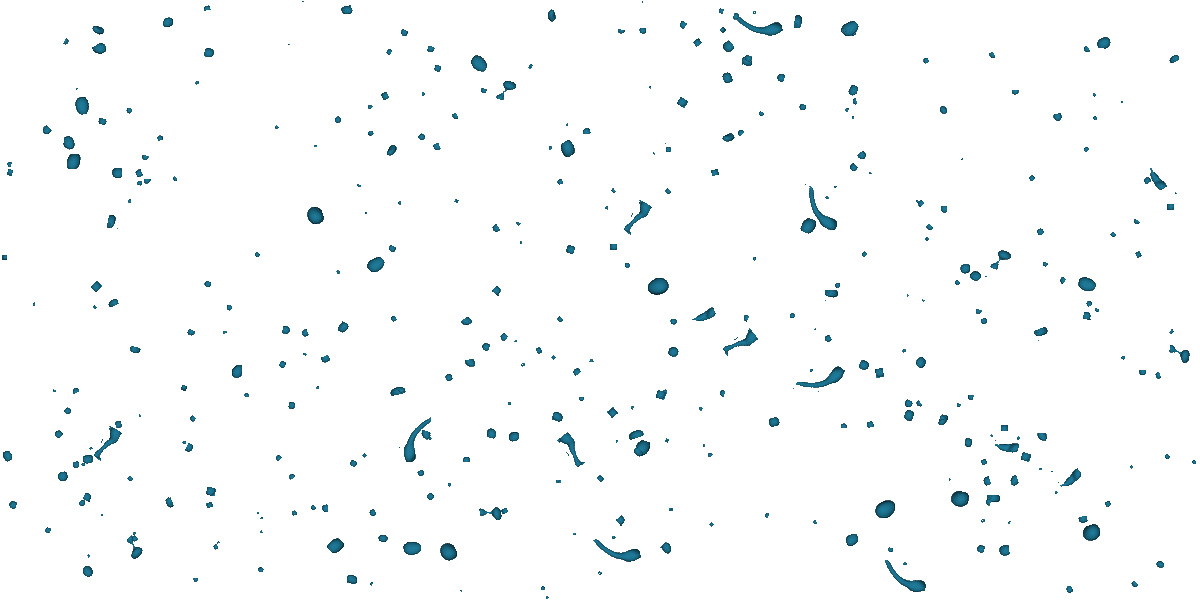Detached ligament: (792, 352, 847, 408), (791, 183, 848, 233), (729, 4, 784, 46), (588, 530, 642, 570), (877, 559, 928, 593), (401, 412, 434, 463), (721, 327, 759, 361), (556, 431, 590, 469), (622, 199, 653, 238), (92, 425, 123, 464), (120, 533, 148, 561), (987, 246, 1013, 274), (493, 77, 518, 104), (1057, 467, 1084, 491), (1146, 165, 1168, 192), (478, 502, 503, 524), (1167, 342, 1192, 364), (690, 306, 717, 325), (993, 439, 1020, 454)
drop: (434, 537, 460, 565), (645, 274, 673, 300), (838, 17, 864, 43), (364, 253, 390, 279), (465, 52, 491, 78), (302, 201, 326, 228), (1077, 522, 1104, 546), (69, 94, 92, 118), (872, 498, 897, 520), (946, 489, 971, 510), (401, 539, 424, 561), (325, 535, 347, 557), (557, 138, 578, 160), (1076, 276, 1097, 296), (799, 216, 819, 236), (633, 438, 653, 458), (719, 39, 738, 59), (856, 356, 874, 375), (91, 40, 110, 58), (912, 353, 930, 371), (966, 267, 984, 285), (719, 129, 737, 147), (1033, 325, 1052, 342), (543, 6, 560, 24), (626, 426, 646, 441), (659, 539, 676, 556), (202, 44, 218, 62), (388, 383, 408, 397), (66, 153, 82, 170), (666, 344, 684, 359), (106, 212, 121, 230), (339, 3, 355, 19), (336, 320, 352, 336), (53, 470, 70, 485), (483, 425, 500, 440), (996, 544, 1011, 561), (1153, 557, 1169, 572), (38, 124, 53, 140), (856, 149, 871, 165), (844, 533, 860, 548), (62, 135, 77, 151), (458, 315, 474, 330), (0, 449, 15, 464), (109, 167, 123, 183), (986, 494, 1003, 507), (937, 103, 951, 118), (90, 23, 105, 37), (902, 408, 916, 423), (846, 83, 860, 98), (956, 263, 972, 276), (230, 364, 243, 380), (824, 289, 840, 302), (551, 409, 565, 423), (1007, 472, 1020, 487), (417, 428, 432, 441), (375, 532, 390, 545), (794, 13, 806, 29), (507, 430, 520, 444), (162, 15, 175, 29), (281, 324, 295, 337), (1052, 112, 1065, 126), (367, 507, 380, 521), (1097, 36, 1111, 49), (385, 144, 398, 158), (721, 71, 734, 85), (331, 113, 344, 126), (415, 131, 428, 144), (61, 405, 74, 418), (491, 284, 504, 297), (615, 514, 628, 527), (488, 223, 501, 236), (569, 364, 582, 377), (632, 446, 645, 459), (346, 572, 359, 585), (741, 54, 754, 67), (77, 497, 90, 510), (52, 427, 65, 440), (90, 280, 103, 293), (676, 96, 689, 109), (606, 406, 619, 419), (202, 279, 216, 291), (1139, 175, 1153, 187), (797, 102, 811, 114), (1167, 53, 1181, 65), (106, 297, 120, 309), (767, 416, 781, 428), (81, 565, 94, 577), (442, 371, 454, 384), (184, 442, 196, 455), (319, 354, 332, 366), (937, 414, 949, 427), (81, 453, 94, 465), (823, 333, 834, 347), (164, 496, 175, 510), (462, 358, 476, 369), (963, 436, 974, 450), (82, 491, 94, 503), (980, 475, 992, 487), (979, 316, 991, 328), (416, 468, 428, 480), (1063, 584, 1075, 596), (902, 398, 914, 410), (655, 389, 667, 401), (1020, 451, 1032, 463), (847, 28, 858, 41), (1034, 432, 1048, 442), (287, 400, 298, 412), (1077, 515, 1089, 526), (398, 28, 410, 39), (386, 244, 398, 255), (205, 486, 217, 497), (874, 367, 885, 379), (129, 345, 142, 355), (914, 198, 925, 209), (1056, 275, 1067, 286), (1082, 310, 1093, 321), (924, 223, 935, 234), (1129, 580, 1140, 591), (186, 414, 197, 425), (677, 20, 688, 31), (498, 332, 509, 343), (734, 127, 745, 138), (1081, 45, 1092, 56), (69, 385, 80, 396), (848, 162, 859, 173), (732, 11, 743, 22), (272, 452, 283, 463), (425, 491, 436, 502), (277, 359, 288, 370), (348, 458, 359, 469), (299, 328, 310, 339), (1026, 172, 1037, 183), (975, 543, 986, 554), (7, 499, 18, 510), (480, 341, 491, 352), (692, 37, 703, 48), (565, 244, 576, 255), (987, 51, 997, 62), (740, 313, 750, 324), (450, 112, 460, 123), (581, 124, 591, 135), (318, 504, 329, 514), (553, 177, 564, 187), (919, 56, 930, 66), (432, 142, 442, 153), (134, 168, 144, 179), (186, 328, 197, 338), (936, 414, 947, 424), (913, 398, 923, 409), (1130, 217, 1141, 227), (130, 534, 140, 545), (669, 318, 679, 328), (383, 47, 393, 57), (286, 471, 296, 481), (978, 457, 988, 467), (1102, 499, 1112, 509), (388, 314, 398, 324), (1084, 298, 1094, 308), (1035, 227, 1045, 237), (704, 450, 714, 460), (364, 102, 374, 112), (380, 91, 390, 101), (1153, 371, 1162, 382), (983, 497, 992, 508), (62, 37, 71, 48), (201, 3, 211, 12), (224, 304, 233, 314), (124, 107, 133, 117), (717, 389, 726, 399), (4, 159, 13, 169), (638, 27, 648, 36), (43, 526, 52, 536), (155, 133, 165, 142), (433, 64, 443, 73), (1162, 452, 1171, 461), (252, 250, 261, 259), (833, 281, 842, 290), (256, 565, 265, 574), (366, 129, 375, 138), (663, 187, 672, 196), (555, 315, 564, 324), (776, 73, 785, 82), (952, 278, 961, 287), (308, 503, 317, 512), (1040, 260, 1049, 269), (596, 474, 605, 483), (1134, 250, 1143, 259), (143, 178, 153, 186), (461, 455, 471, 463), (1138, 369, 1148, 377), (940, 205, 948, 215), (1011, 89, 1021, 97), (850, 96, 858, 106), (762, 511, 770, 521), (664, 146, 672, 155), (966, 394, 975, 402), (756, 110, 765, 118), (211, 542, 219, 551), (1000, 424, 1009, 432), (1166, 203, 1175, 211), (609, 243, 618, 251), (535, 346, 543, 355), (205, 501, 214, 509), (500, 507, 509, 515), (6, 168, 14, 177), (886, 546, 894, 554), (842, 105, 850, 113), (596, 569, 604, 577), (839, 421, 847, 429), (519, 361, 527, 369), (979, 517, 987, 525), (126, 475, 134, 483), (860, 250, 868, 258), (397, 387, 405, 395), (1109, 231, 1117, 239), (1082, 145, 1090, 153), (1168, 328, 1176, 336), (609, 187, 617, 195), (1014, 435, 1022, 443), (272, 124, 280, 132), (900, 347, 908, 355), (334, 268, 342, 276), (193, 79, 201, 87), (1091, 114, 1099, 122), (1190, 458, 1198, 466), (539, 584, 547, 592), (549, 354, 557, 362), (361, 452, 369, 460), (1120, 354, 1128, 362), (707, 521, 715, 529), (72, 461, 80, 469), (180, 384, 188, 392), (719, 26, 727, 34), (98, 118, 107, 125), (427, 46, 436, 53), (115, 420, 122, 429), (744, 55, 753, 62), (241, 391, 250, 398), (192, 577, 201, 584), (841, 28, 850, 35), (135, 180, 143, 187), (975, 309, 983, 316), (142, 155, 150, 162), (79, 461, 87, 468), (446, 481, 453, 489), (623, 262, 631, 269), (789, 312, 796, 320), (171, 175, 178, 183), (180, 439, 188, 446), (577, 396, 585, 403), (866, 421, 874, 428), (711, 169, 719, 176), (616, 29, 625, 35), (588, 356, 595, 363), (125, 197, 132, 204), (751, 255, 758, 262), (1093, 307, 1100, 314), (301, 351, 308, 358), (91, 304, 98, 311), (956, 402, 963, 409), (527, 63, 534, 70), (1, 254, 8, 261), (291, 509, 297, 516), (395, 200, 402, 206), (547, 144, 553, 151), (480, 88, 487, 94), (812, 519, 818, 526), (515, 221, 522, 227), (914, 198, 920, 205), (368, 580, 374, 587), (920, 298, 926, 304), (51, 388, 57, 394), (88, 445, 94, 451), (1128, 464, 1134, 470), (222, 328, 228, 334), (629, 405, 635, 411), (131, 531, 137, 537), (1091, 92, 1097, 98), (85, 553, 91, 559), (613, 438, 619, 444), (258, 529, 264, 535), (1006, 519, 1012, 525), (544, 594, 550, 600), (959, 156, 965, 162), (718, 8, 724, 14), (647, 84, 653, 90), (832, 184, 838, 190), (946, 477, 952, 483), (868, 171, 874, 177), (1118, 99, 1124, 105), (698, 406, 704, 412), (924, 236, 930, 242), (555, 479, 562, 484), (564, 122, 569, 128), (315, 384, 320, 390), (31, 301, 36, 307), (507, 401, 512, 407), (604, 205, 609, 211), (312, 143, 318, 148), (1037, 466, 1043, 471), (850, 114, 855, 120), (259, 515, 265, 520), (363, 210, 368, 216), (662, 389, 667, 395), (421, 92, 426, 98), (255, 511, 260, 517), (100, 513, 106, 518), (668, 507, 674, 512), (513, 339, 518, 344), (989, 433, 994, 438), (137, 413, 142, 418), (572, 531, 577, 536), (1049, 469, 1054, 474), (1173, 191, 1178, 196), (813, 327, 818, 332), (518, 240, 523, 245), (701, 443, 706, 448), (74, 87, 79, 92), (651, 151, 656, 156), (356, 184, 362, 188), (286, 43, 291, 47), (397, 446, 402, 450), (458, 589, 463, 593), (983, 275, 988, 279), (300, 0, 305, 4), (956, 491, 960, 496), (1054, 490, 1058, 495), (215, 540, 220, 544), (454, 199, 459, 203), (665, 438, 669, 443), (640, 0, 644, 4), (816, 390, 820, 394), (828, 495, 832, 499), (906, 293, 909, 297), (664, 141, 667, 144)
